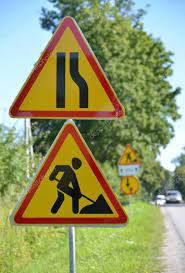1.18.5: (8, 15, 128, 119)
1.23: (14, 120, 127, 226)
